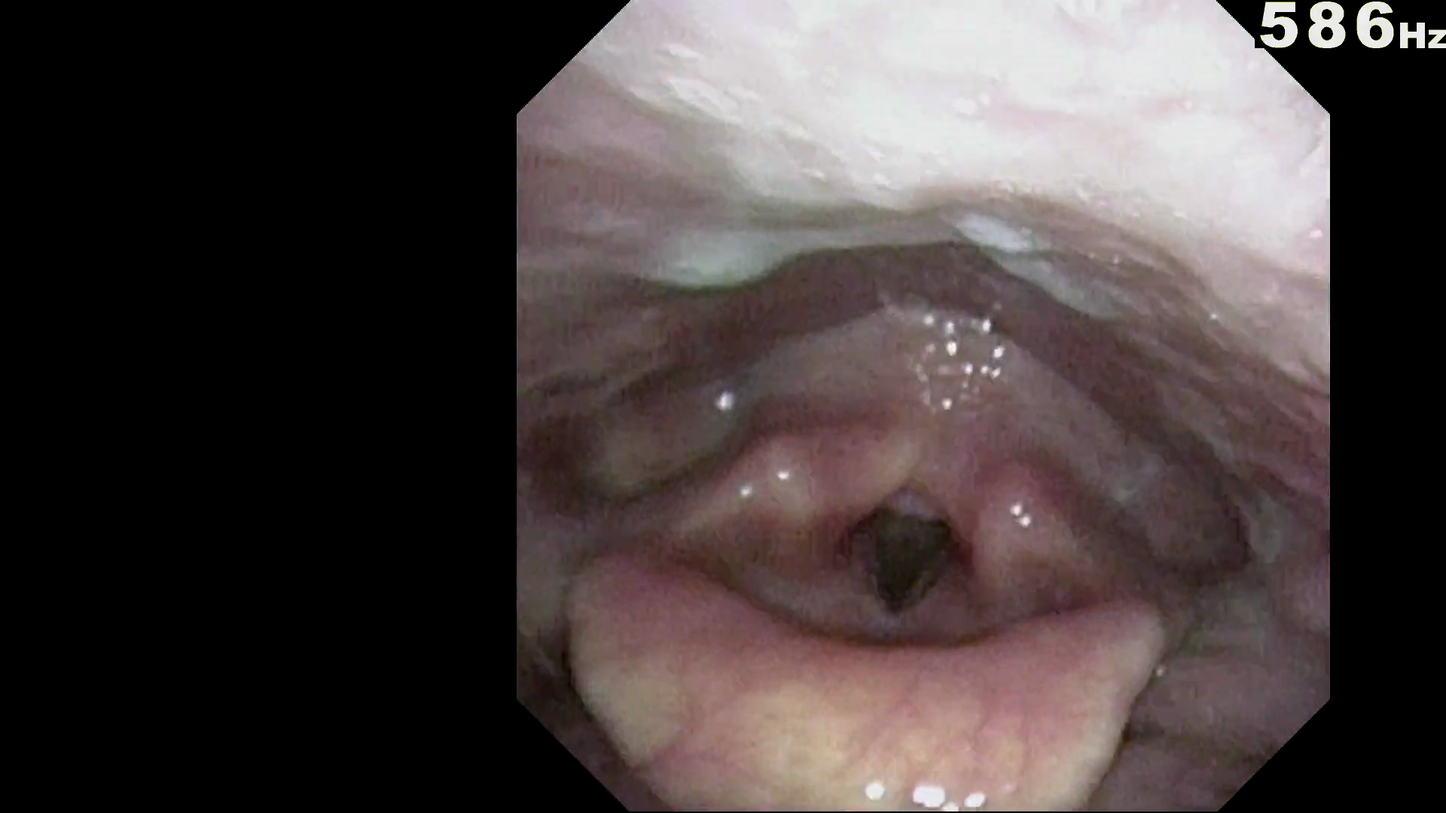epiglottis: (610, 631, 1182, 774)
trachea: (846, 501, 971, 634)
